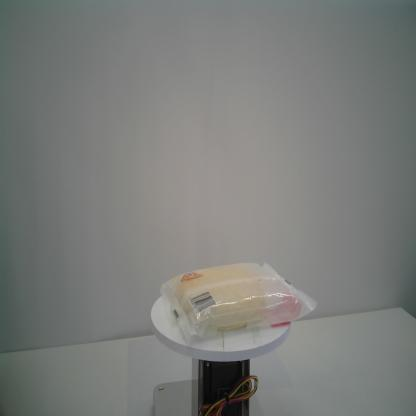Dessert: (160, 261, 318, 347)
